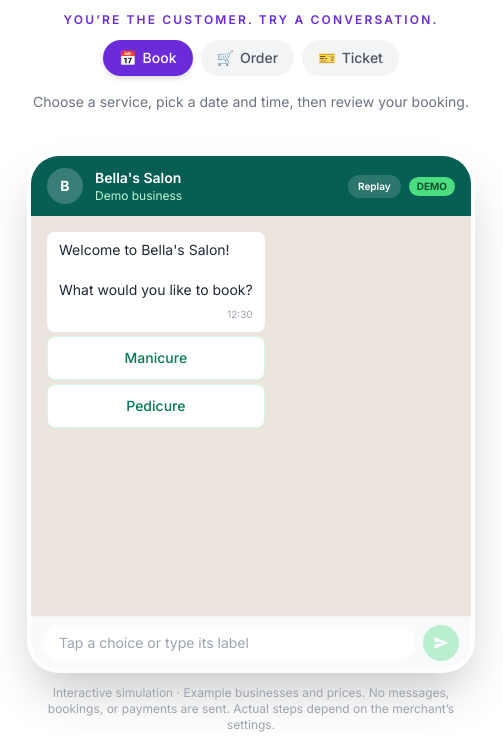
Test case: interactive customer demo › cancels pending replies when replaying or switching scenario
Click the button "Pedicure".
click(156, 406)  # box [47,384,265,428]
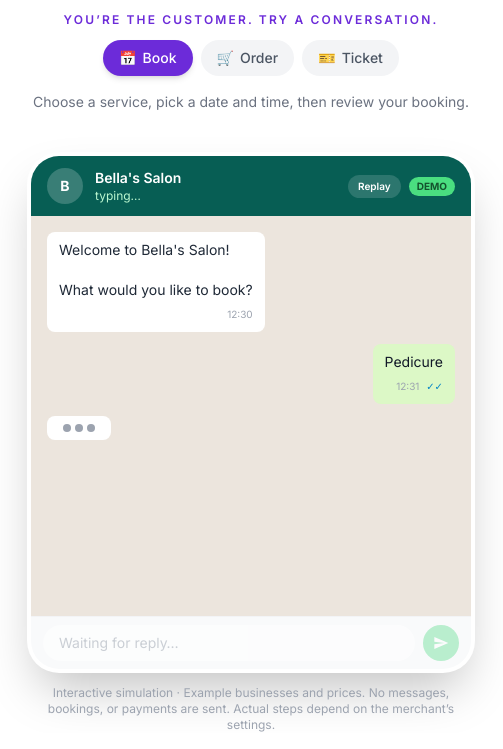
Click the button with test id "scenario-tab-order".
click(247, 58)  # box [200,40,294,76]
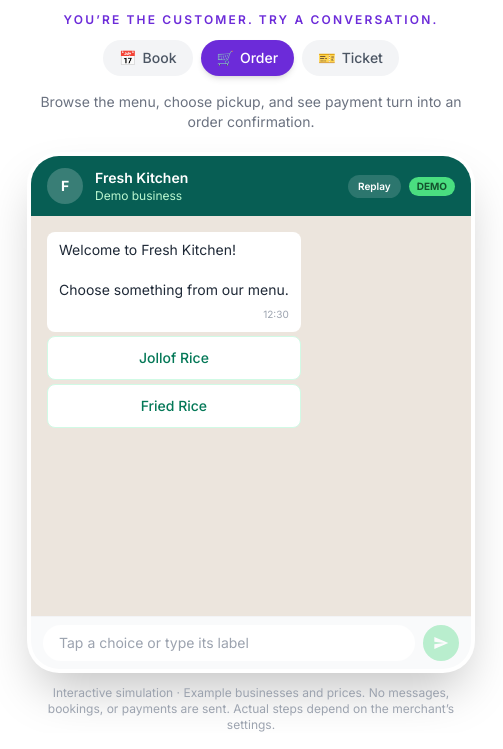
Click the button "Fried Rice".
click(174, 406)  # box [47,384,301,428]
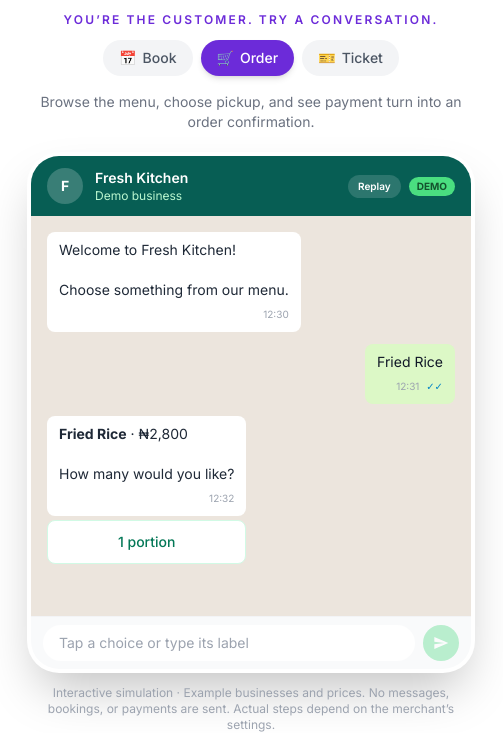
Click the button with test id "demo-reset".
click(374, 186)  # box [348,174,401,198]
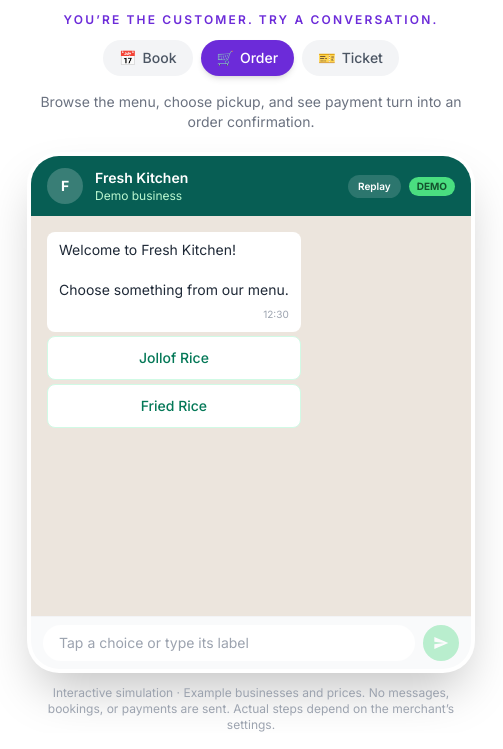
expect the button "Jollof Rice" is shown: met, box [47,336,301,380]
